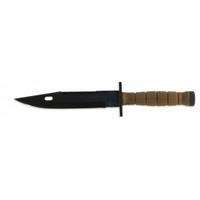knife: (12, 79, 198, 119)
